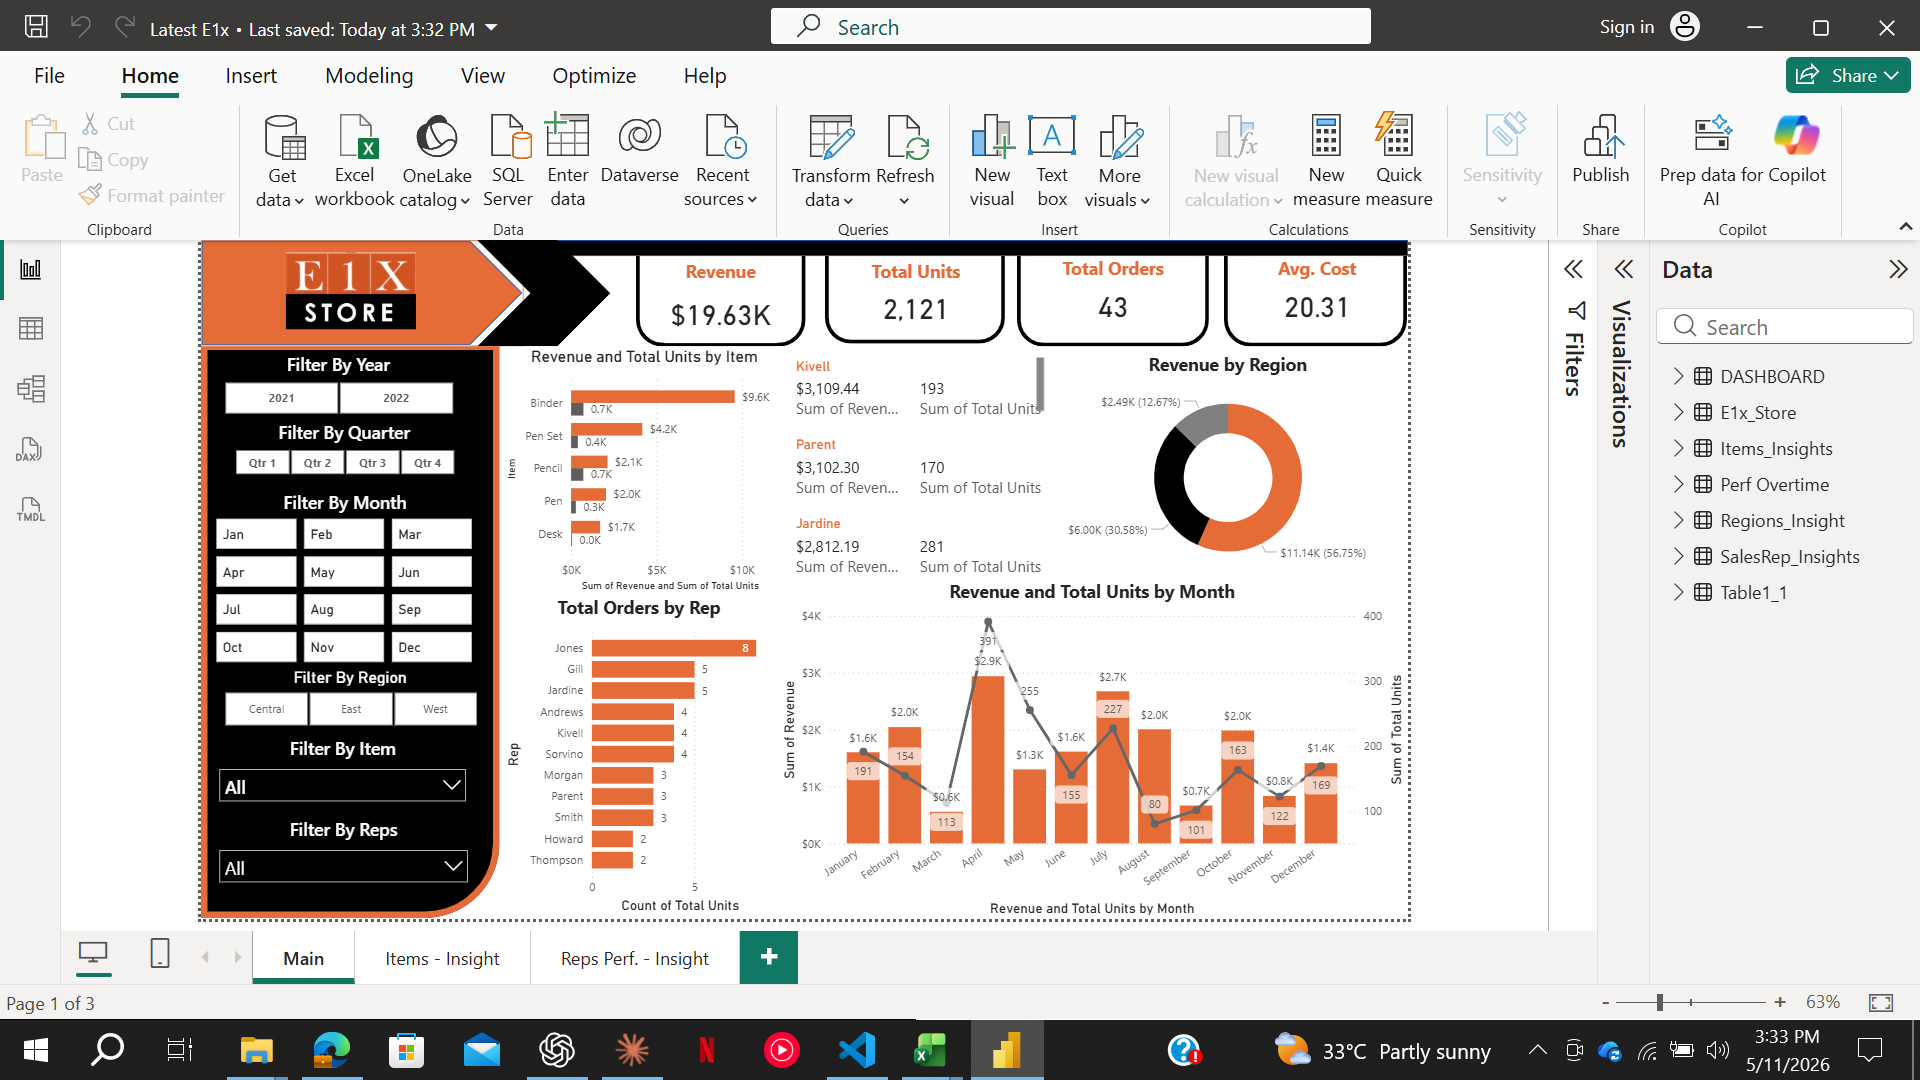

This screenshot's page, from the dashboard's own definition file:
{"tool":"powerbi","page":{"name":"Main","canvas":[1280,720],"ordinal":0},"visuals":[{"type":"shape","box":[0,109.8,316.5,609.2],"z":0},{"type":"shape","box":[0,0,342,112.9],"z":1000},{"type":"image","box":[0,8,318.1,105],"z":2000},{"type":"shape","box":[461.3,0,179.7,112.9],"z":3000},{"type":"shape","box":[661.7,0,190.9,109.8],"z":4000},{"type":"shape","box":[865.3,0,203.6,112.9],"z":5000},{"type":"shape","box":[1084.8,0,194.1,112.9],"z":6000},{"type":"shape","box":[338.3,0,941.1,17],"z":7000},{"type":"shape","box":[292.7,0,141.6,112.9],"z":8000},{"type":"card","title":"Revenue","fields":{"Values":["Sum(E1x_Store.Total)"]},"box":[491.3,20.8,119.1,88.8],"z":9000},{"type":"card","title":"Total Units","fields":{"Values":["Sum(Table1_1.Units)"]},"box":[684,20.7,147.9,74.8],"z":10000},{"type":"card","title":"Total Orders","fields":{"Values":["CountNonNull(Table1_1.OrderDate)"]},"box":[882.8,17.5,168.6,77.9],"z":11000},{"type":"card","title":"Avg. Cost","fields":{"Values":["Avg(Table1_1.Unit Cost)"]},"box":[1115,17.5,136.8,77.9],"z":12000},{"type":"donutChart","title":"Revenue by Region","fields":{"Y":["Sum(Table1_1.Total)"],"Category":["Table1_1.Region"]},"box":[898.7,119.3,380.2,240.2],"z":13000},{"type":"lineClusteredColumnComboChart","title":"Revenue and Total Units by Month","fields":{"Category":["Table1_1.OrderDate.Variation.Date Hierarchy.Month"],"Y":["Sum(Table1_1.Total)"],"Y2":["Sum(Table1_1.Units)"]},"box":[610.8,359.5,668.1,361.1],"z":14000},{"type":"clusteredBarChart","title":"Total Orders by Rep","fields":{"Category":["Table1_1.Rep"],"Y":["CountNonNull(Table1_1.Units)"]},"box":[318.1,377,292.7,340.4],"z":15000},{"type":"multiRowCard","fields":{"Values":["Sum(Table1_1.Total)","Sum(Table1_1.Units)","Table1_1.Rep"]},"box":[614,119.3,284.7,240.2],"z":16000},{"type":"clusteredBarChart","title":"Revenue and Total Units by Item","fields":{"Y":["Sum(Table1_1.Total)","Sum(Table1_1.Units)"],"Category":["Table1_1.Item"]},"box":[318.1,112.9,303.8,264],"z":17000},{"type":"advancedSlicerVisual","title":"Filter By Month","fields":{"Values":["Table1_1.Month_Name"]},"box":[11.1,265.6,283.1,187.7],"z":18000},{"type":"slicer","title":"Filter By Reps","fields":{"Values":["Table1_1.Rep"]},"box":[9.5,612.4,283.1,74.8],"z":19000},{"type":"slicer","title":"Filter By Quarter","fields":{"Values":["Table1_1.OrderDate.Variation.Date Hierarchy.Quarter"]},"box":[11.1,190.9,281.5,63.6],"z":20000},{"type":"slicer","title":"Filter By Year","fields":{"Values":["Table1_1.OrderDate.Variation.Date Hierarchy.Year"]},"box":[0,119.3,291.1,71.6],"z":21000},{"type":"slicer","title":"Filter By Item","fields":{"Values":["Table1_1.Item"]},"box":[9.5,526.5,281.5,85.9],"z":22000},{"type":"slicer","title":"Filter By Region","fields":{"Values":["Table1_1.Region"]},"box":[0,453.3,316.5,68.4],"z":23000}]}

Visuals, with their boxes on the page's 1280x720 design canvas (x1, y1, x2, y2). These are canvas units, not pixel positions in the 1920x1080 screenshot, which may show the page scaled, cropped or inside an application window:
shape: bbox=[0, 110, 316, 719]
shape: bbox=[0, 0, 342, 113]
image: bbox=[0, 8, 318, 113]
shape: bbox=[461, 0, 641, 113]
shape: bbox=[662, 0, 853, 110]
shape: bbox=[865, 0, 1069, 113]
shape: bbox=[1085, 0, 1279, 113]
shape: bbox=[338, 0, 1279, 17]
shape: bbox=[293, 0, 434, 113]
"Revenue" card: bbox=[491, 21, 610, 110]
"Total Units" card: bbox=[684, 21, 832, 96]
"Total Orders" card: bbox=[883, 18, 1051, 95]
"Avg. Cost" card: bbox=[1115, 18, 1252, 95]
"Revenue by Region" donutChart: bbox=[899, 119, 1279, 360]
"Revenue and Total Units by Month" lineClusteredColumnComboChart: bbox=[611, 360, 1279, 721]
"Total Orders by Rep" clusteredBarChart: bbox=[318, 377, 611, 717]
multiRowCard - Sum(Table1_1.Total) x Sum(Table1_1.Units): bbox=[614, 119, 899, 360]
"Revenue and Total Units by Item" clusteredBarChart: bbox=[318, 113, 622, 377]
"Filter By Month" advancedSlicerVisual: bbox=[11, 266, 294, 453]
"Filter By Reps" slicer: bbox=[10, 612, 293, 687]
"Filter By Quarter" slicer: bbox=[11, 191, 293, 254]
"Filter By Year" slicer: bbox=[0, 119, 291, 191]
"Filter By Item" slicer: bbox=[10, 526, 291, 612]
"Filter By Region" slicer: bbox=[0, 453, 316, 522]
